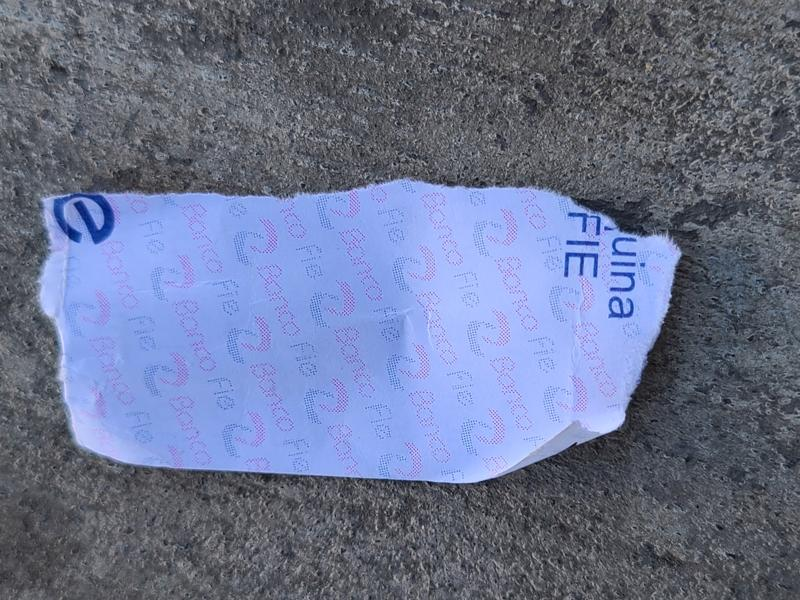papel: (36, 180, 682, 486)
